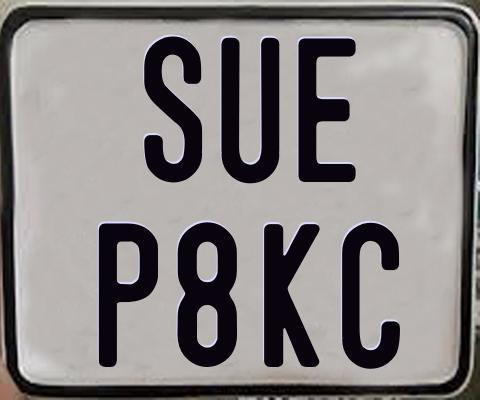8: (177, 219, 241, 365)
C: (340, 221, 403, 367)
E: (296, 35, 356, 180)
K: (261, 224, 318, 367)
P: (99, 222, 162, 366)
S: (143, 36, 203, 187)
U: (218, 36, 278, 184)
